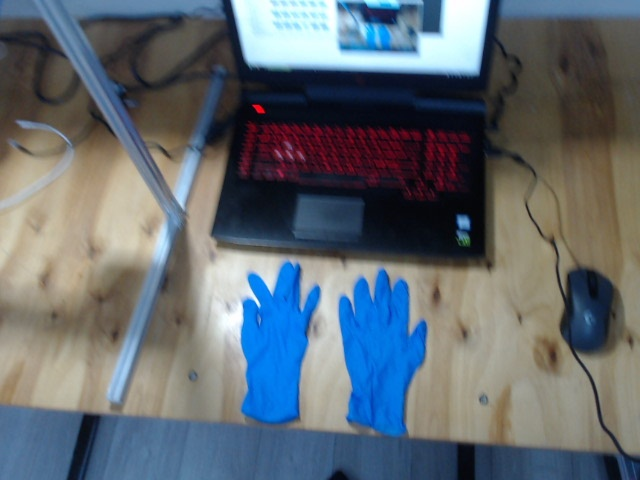medical_glove: (339, 268, 424, 436), (239, 262, 321, 421)
